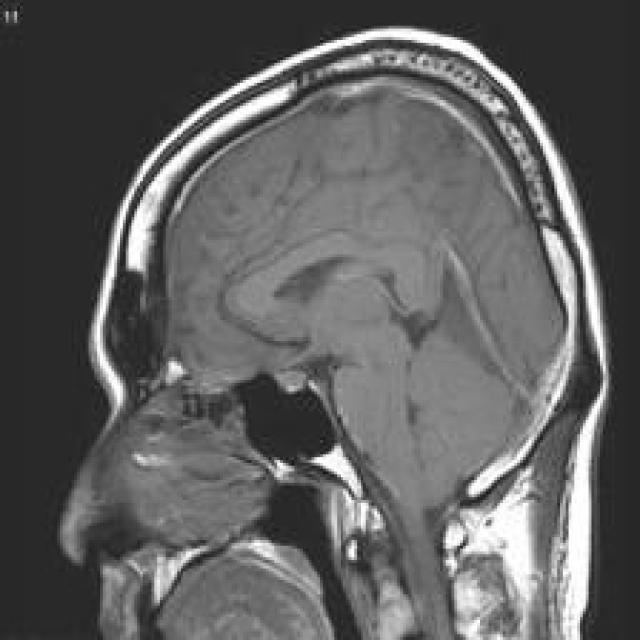no_tumor: (89, 19, 610, 640)
